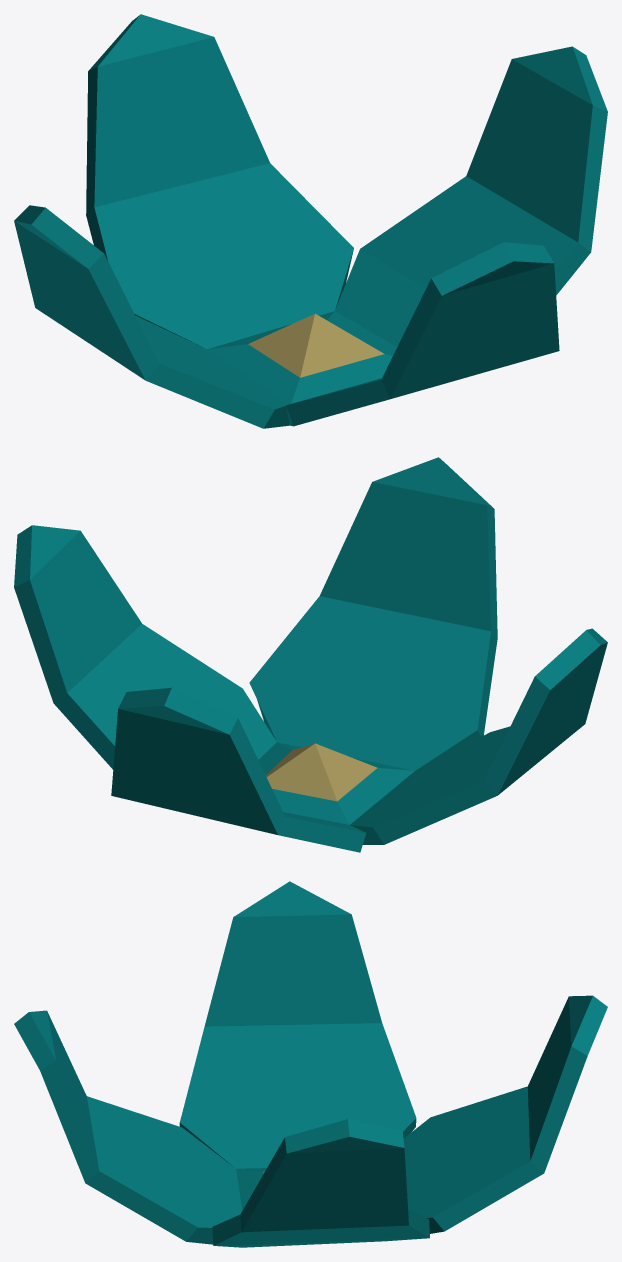
Rendered from flowers_crop.gltf.
3 renders of one model, top to bottom at view 1: azimuth 30°, elevation 25°; view 2: azimuth 150°, elevation 25°; view 3: azimuth 270°, elevation 25°, orthographic. The views are drawn at different scales.
Parts seen in each view (by area): view 1: flowers_crop; view 2: flowers_crop; view 3: flowers_crop.
Boxes of the visible parts, x1,y1,x2,y2 form: flowers_crop: (14,14,607,428); flowers_crop: (14,457,607,852); flowers_crop: (14,881,607,1247).
Bounding box in the file's own units: 0.2918 × 0.1162 × 0.2926.
Materials: 1 (1 with a texture image).
